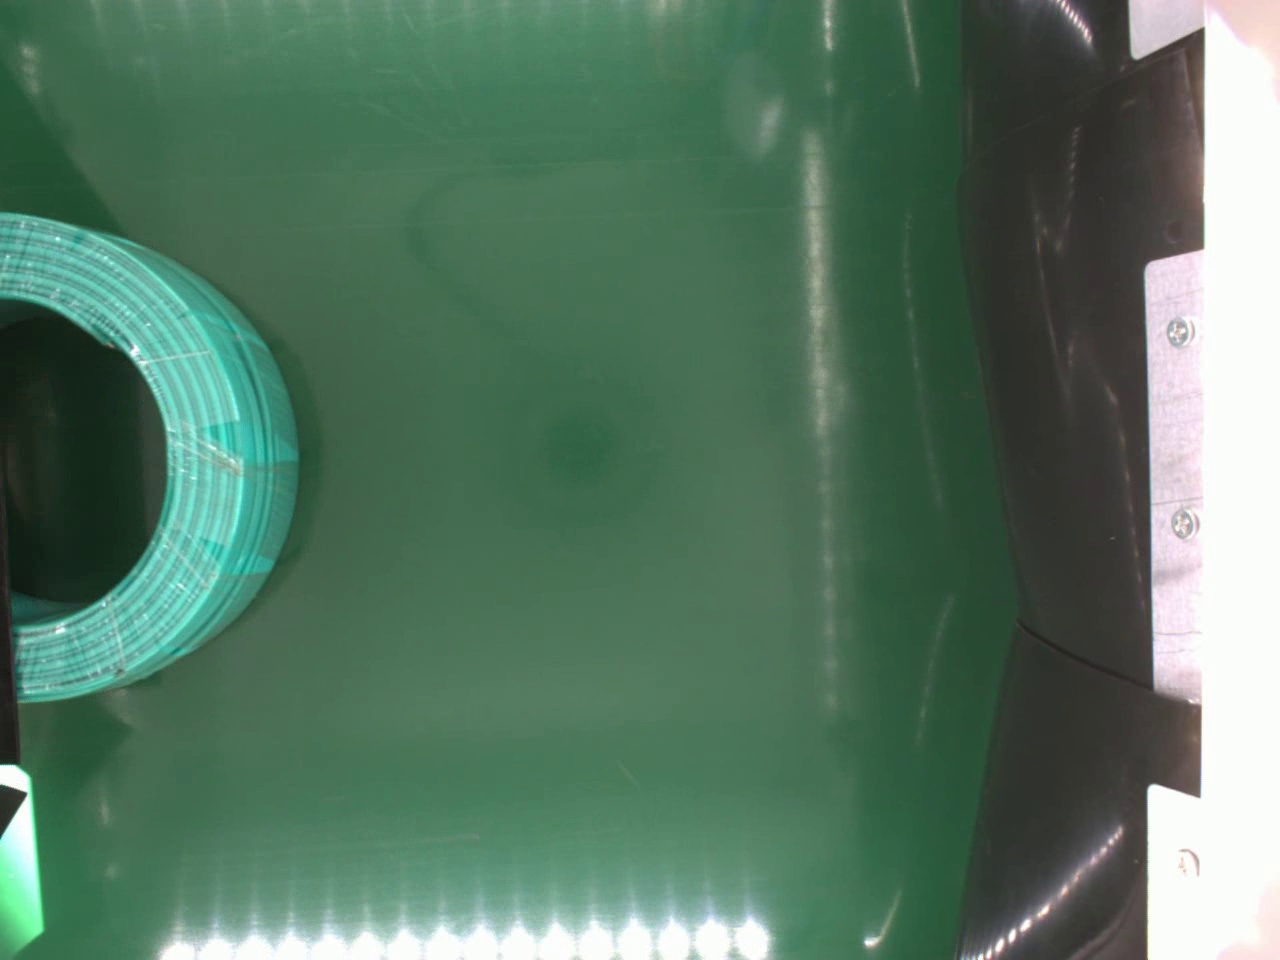green: (0, 210, 303, 715)
